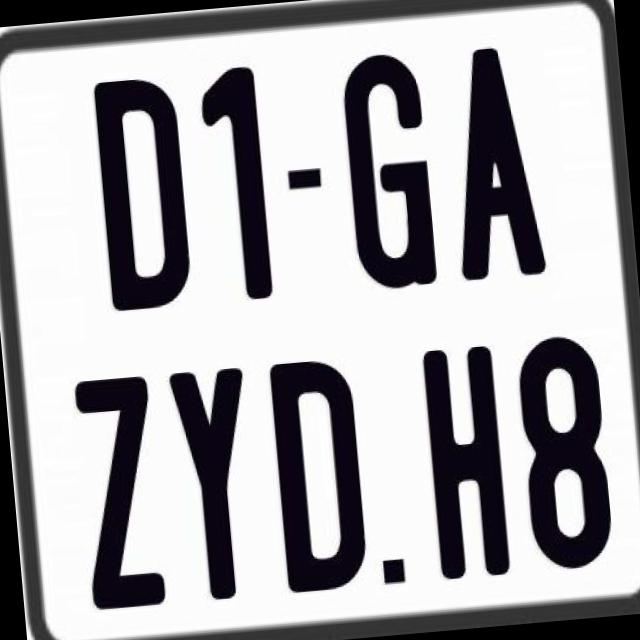1: (196, 64, 276, 308)
8: (512, 328, 622, 574)
A: (438, 40, 546, 286)
D: (266, 356, 374, 598), (92, 74, 192, 310)
G: (335, 46, 439, 291)
H: (421, 345, 516, 584)
Y: (168, 366, 268, 604)
Z: (72, 372, 172, 612)
